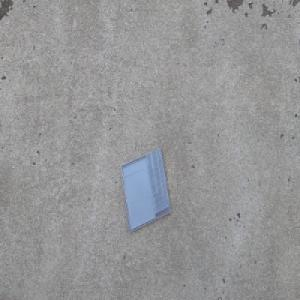PlasticPart: (119, 146, 171, 234)
